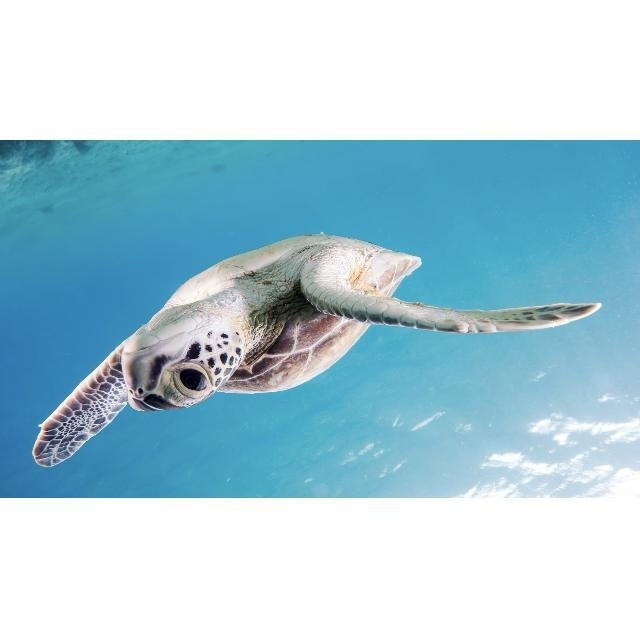turtle: (30, 232, 605, 468)
